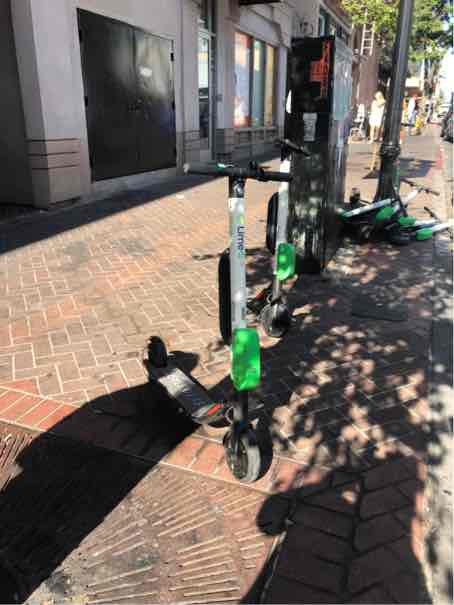scooter: (169, 153, 296, 481)
